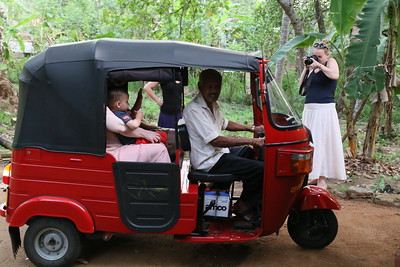threewheel: (1, 38, 340, 267)
